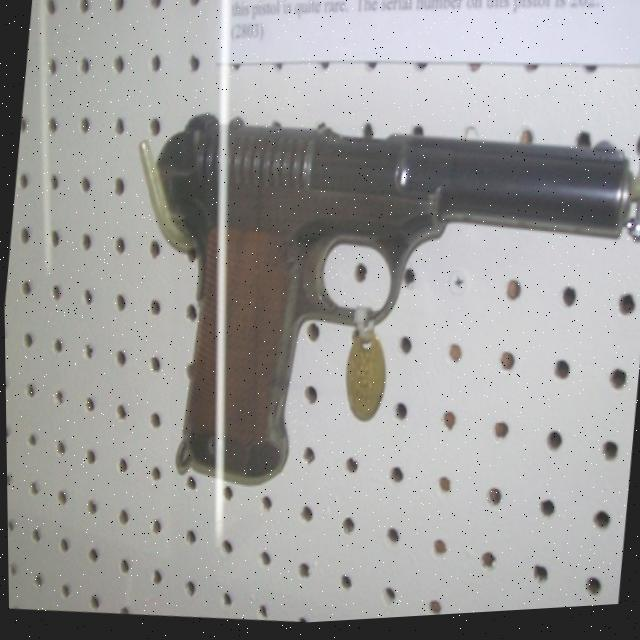pistol: (121, 101, 639, 532)
